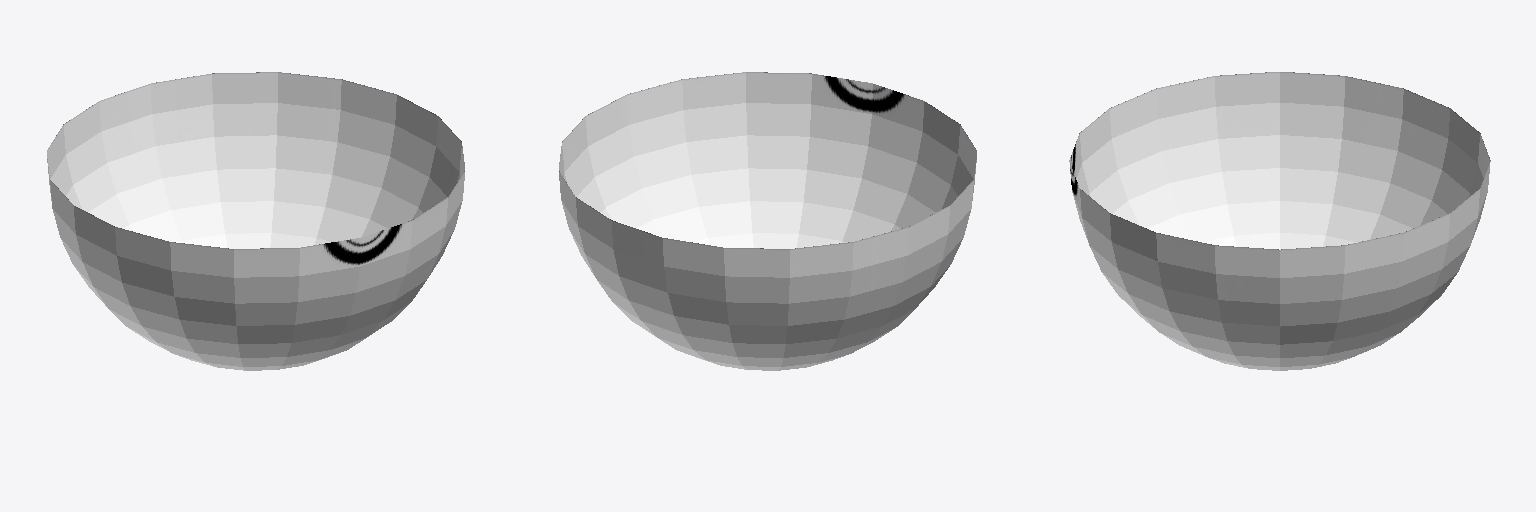
The picture shows the model from 3 angles: view 1: azimuth 30°, elevation 25°; view 2: azimuth 150°, elevation 25°; view 3: azimuth 270°, elevation 25°; orthographic projection.
Parts seen in each view (by area): view 1: polySurface1 pSphere1; view 2: polySurface1 pSphere1; view 3: polySurface1 pSphere1.
Boxes of the visible parts, box(x1,y1,x2,y2) form: polySurface1 pSphere1: box(47, 72, 464, 370); polySurface1 pSphere1: box(559, 72, 976, 370); polySurface1 pSphere1: box(1069, 72, 1490, 370).
Bounding box in the file's own units: 2 × 1 × 2.
Materials: 1 (1 with a texture image).